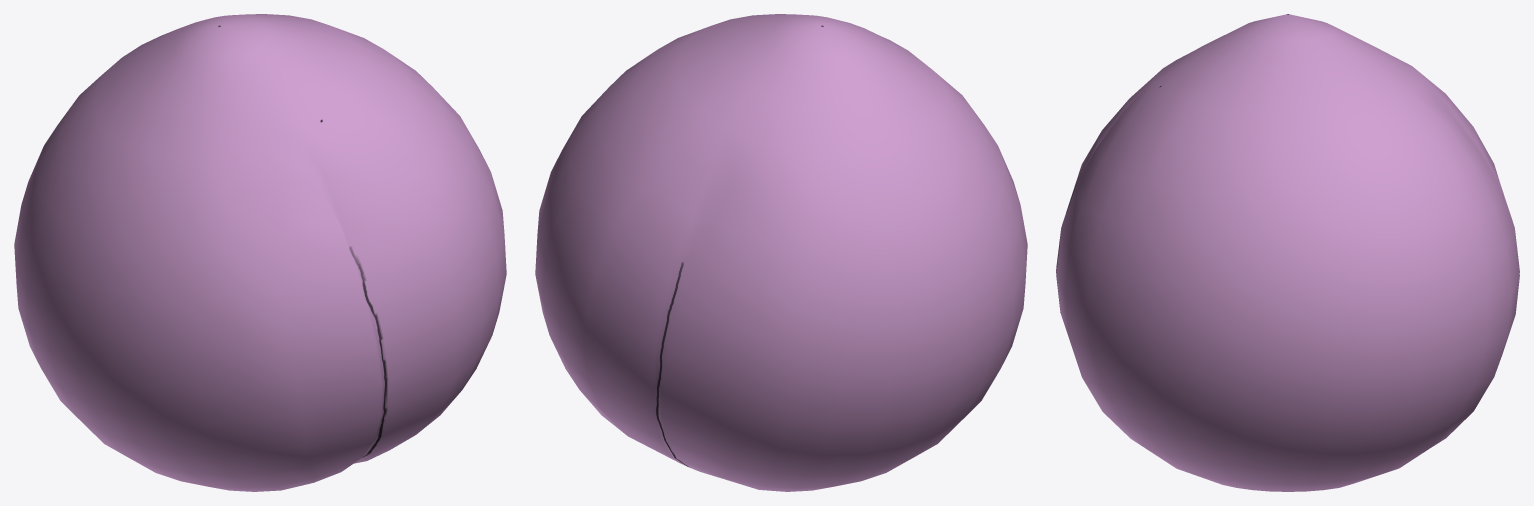
The model's file is donburako3.gltf.
3 renders of one model, left to right at view 1: azimuth 30°, elevation 25°; view 2: azimuth 150°, elevation 25°; view 3: azimuth 270°, elevation 25°, orthographic. The views are drawn at different scales.
Visible parts, largest first — view 1: 球; view 2: 球; view 3: 球.
Boxes of the visible parts, box(x1,y1,x2,y2) form: 球: box(14, 14, 506, 491); 球: box(535, 14, 1027, 491); 球: box(1056, 14, 1519, 491).
Bounding box in the file's own units: 0.9117 × 0.9085 × 0.8774.
1 material, 1 textured.
